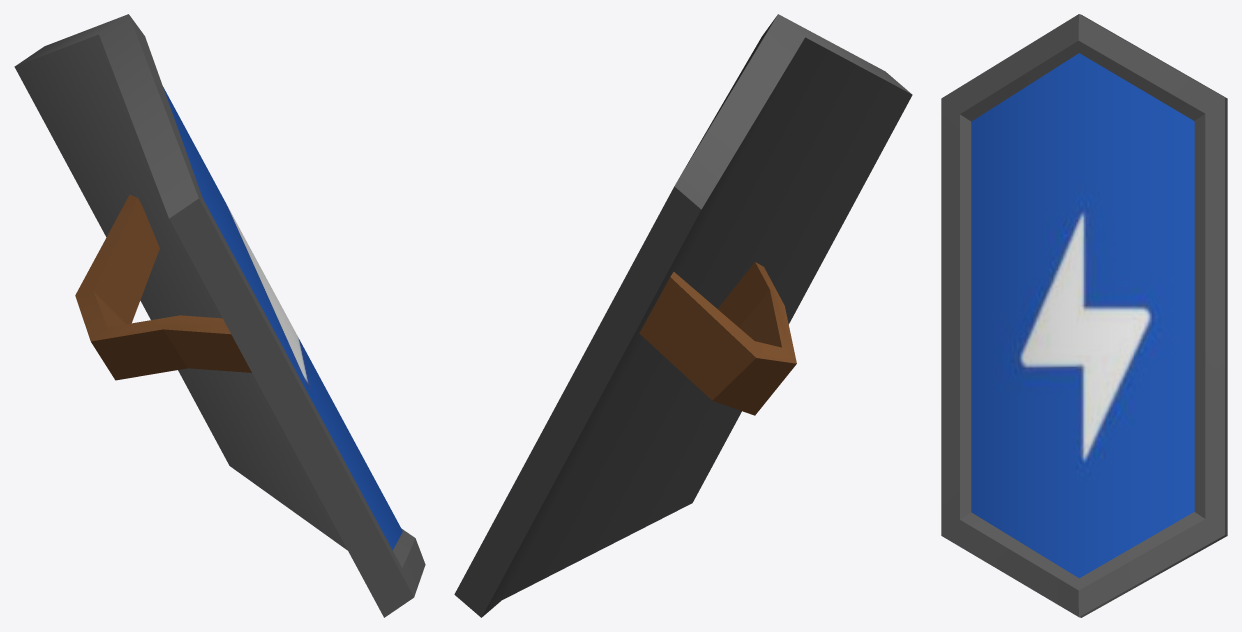
Rendered from shield.glb.
The picture shows the model from 3 angles, left to right: view 1: azimuth 30°, elevation 25°; view 2: azimuth 150°, elevation 25°; view 3: azimuth 270°, elevation 25°; orthographic projection. The views are drawn at different scales.
Visible parts, largest first — view 1: Shield; view 2: Shield; view 3: Shield.
Part boxes in pixels (x1,y1,x2,y2): Shield: (14,14,425,617); Shield: (454,14,912,617); Shield: (941,14,1227,617).
Size of the model in its own units: 0.0632 by 0.1124 by 0.0582.
Materials: 2 (2 with a texture image).
